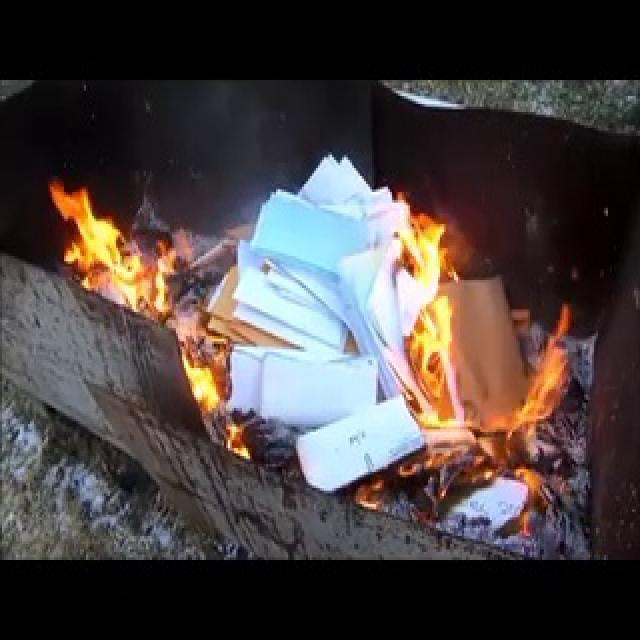fire: (374, 158, 554, 466), (49, 137, 187, 330)
